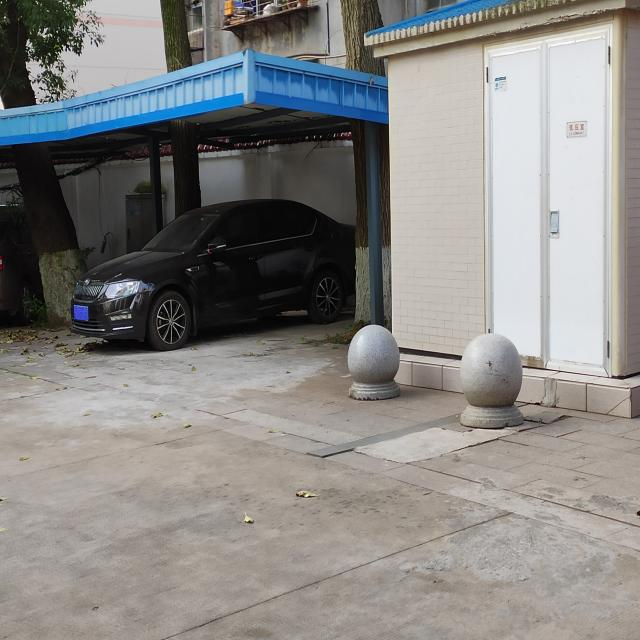car: (68, 196, 356, 350)
spherical_roadblock: (457, 332, 529, 428), (346, 324, 402, 399)
